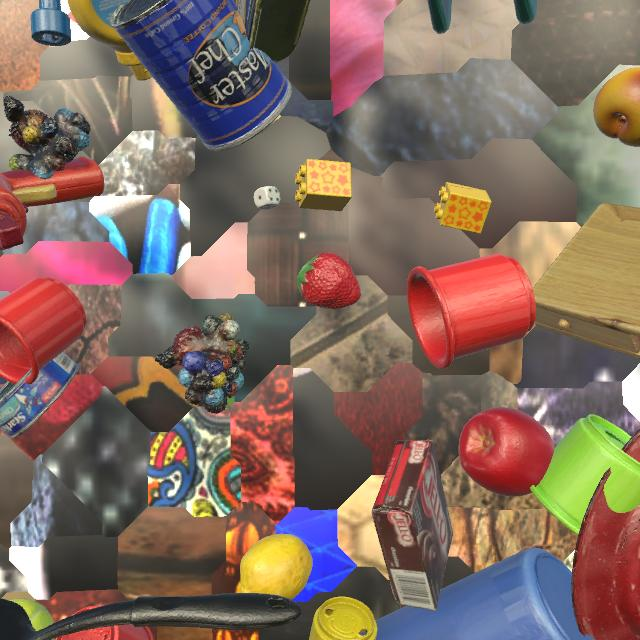ycb_002_master_chef_can: (109, 0, 292, 151)
ycb_006_mustard_bottle: (67, 0, 152, 81)
ycb_007_tuna_fish_can: (0, 352, 80, 439)
ycb_008_pudding_box: (371, 440, 453, 611)
ycb_010_potted_meat_can: (234, 0, 311, 63)
ycb_012_strawberry: (297, 252, 361, 309)
ycb_013_apple: (458, 407, 555, 497)
ycb_014_lemon: (240, 534, 313, 600)
ycb_015_peach: (593, 67, 640, 147)
